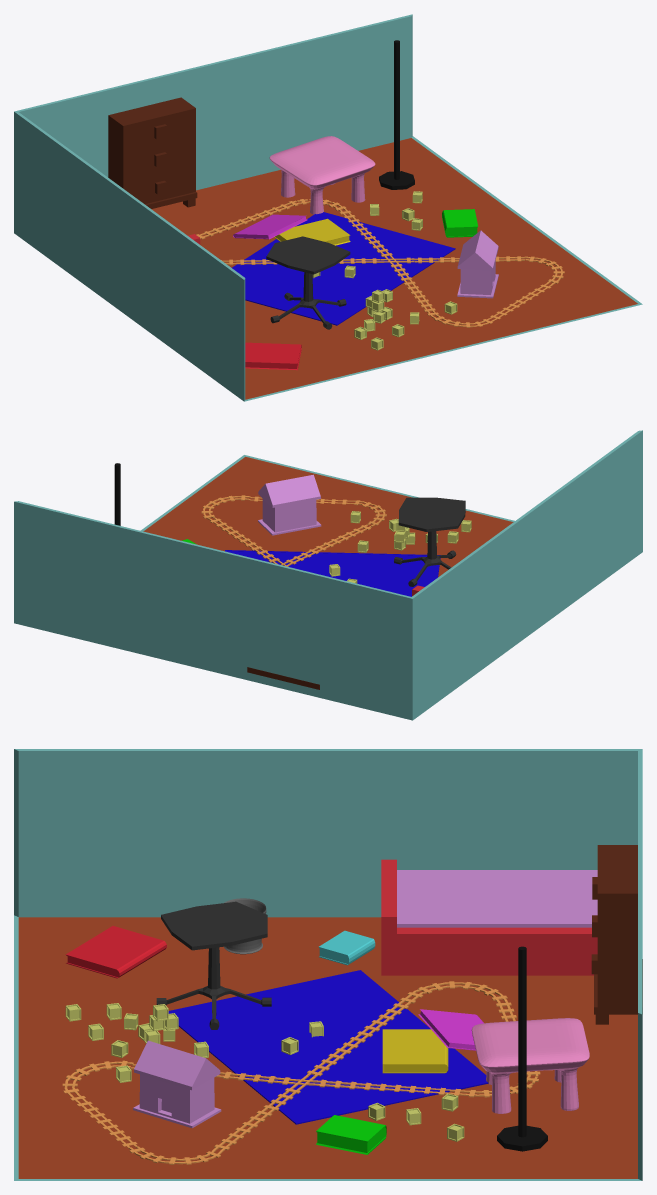
File: room17.fbx
3 renders of one model, top to bottom at view 1: azimuth 30°, elevation 25°; view 2: azimuth 150°, elevation 25°; view 3: azimuth 270°, elevation 25°, orthographic. The views are drawn at different scales.
Visible parts, largest first — view 1: Plane, Plane.003, Plane.002, Cube.005, Cube.006, tracks.007, Cylinder, Cube, Cube.000, Cylinder.001, Cube.001, Cube.004 (+2 smaller); view 2: Plane, Plane.003, Plane.002, Cube, Cylinder, tracks.007, Cube.005, Cylinder.001; view 3: Plane, Plane.003, Plane.002, Cube.008, Cube.007, Cube.005, tracks.007, Cube.006, Cube, Cylinder, Cube.000, Cube.001 (+6 smaller).
Boxes of the visible parts, left/top/right/bottom form: Plane: left=14, top=14, right=642, bottom=401; Plane.003: left=151, top=138, right=637, bottom=399; Plane.002: left=233, top=213, right=451, bottom=323; Cube.005: left=108, top=97, right=197, bottom=208; Cube.006: left=269, top=136, right=375, bottom=214; tracks.007: left=196, top=199, right=564, bottom=327; Cylinder: left=266, top=236, right=350, bottom=329; Cube: left=457, top=230, right=498, bottom=298; Cube.000: left=245, top=342, right=301, bottom=370; Cylinder.001: left=379, top=40, right=414, bottom=189; Cube.001: left=274, top=218, right=350, bottom=245; Cube.004: left=233, top=214, right=307, bottom=239; Plane: left=14, top=430, right=642, bottom=720; Plane.003: left=143, top=456, right=513, bottom=577; Plane.002: left=227, top=551, right=436, bottom=596; Cube: left=258, top=474, right=321, bottom=535; Cylinder: left=394, top=497, right=465, bottom=586; tracks.007: left=201, top=495, right=386, bottom=566; Cube.005: left=247, top=667, right=319, bottom=689; Cylinder.001: left=114, top=463, right=120, bottom=525; Plane: left=14, top=749, right=642, bottom=1180; Plane.003: left=18, top=917, right=637, bottom=1178; Plane.002: left=168, top=972, right=486, bottom=1121; Cube.008: left=397, top=870, right=597, bottom=927; Cube.007: left=381, top=859, right=597, bottom=975; Cube.005: left=591, top=845, right=642, bottom=1024; tracks.007: left=62, top=981, right=540, bottom=1164; Cube.006: left=471, top=1018, right=589, bottom=1113; Cube: left=133, top=1040, right=221, bottom=1128; Cylinder: left=156, top=901, right=271, bottom=1029; Cube.000: left=65, top=926, right=166, bottom=978; Cube.001: left=382, top=1029, right=448, bottom=1073.
Bounding box in the file's own units: 3000 × 1040 × 3001.
